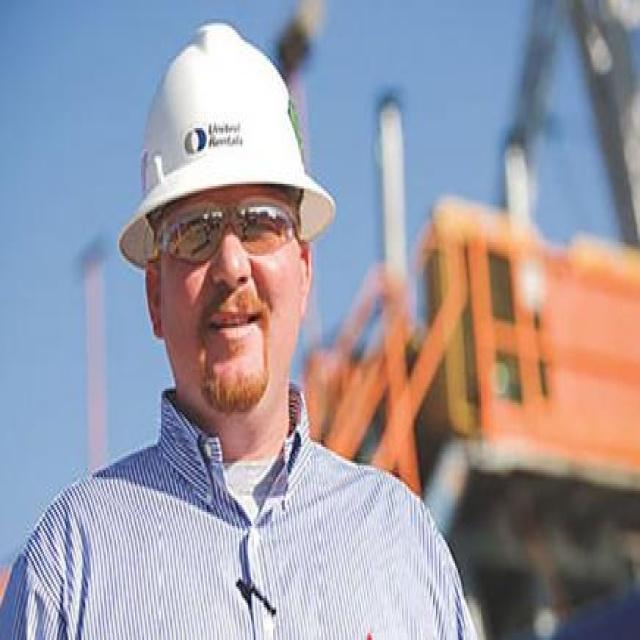helmet: (115, 28, 338, 559)
